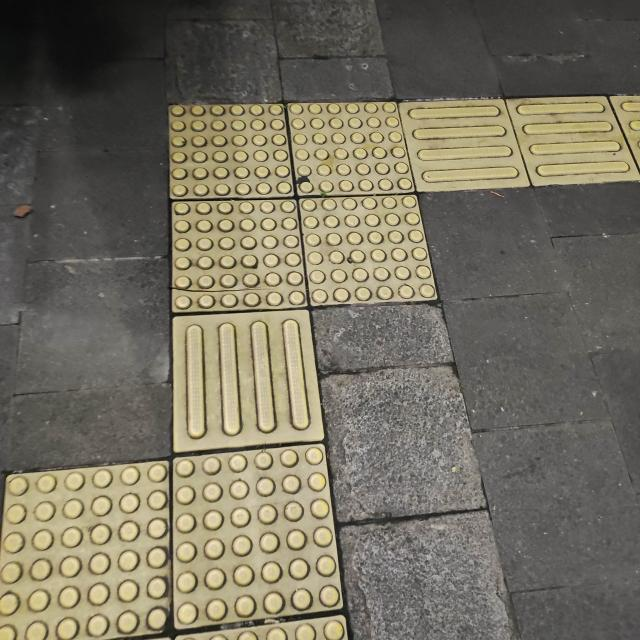kanan: (126, 76, 606, 377)
